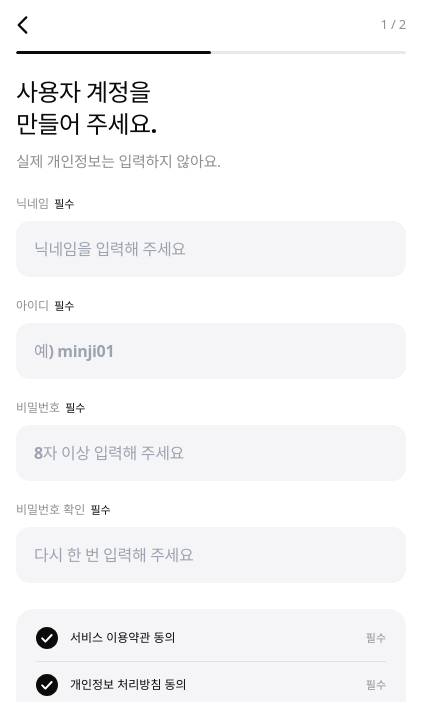
Scenario: BiasFit React flow › keeps the signup form open when passwords do not match
This screenshot has width=423, height=702.
Type "new-user" into the field labelled "아이디 필수". click: (211, 351)
box: [16,323,406,379]
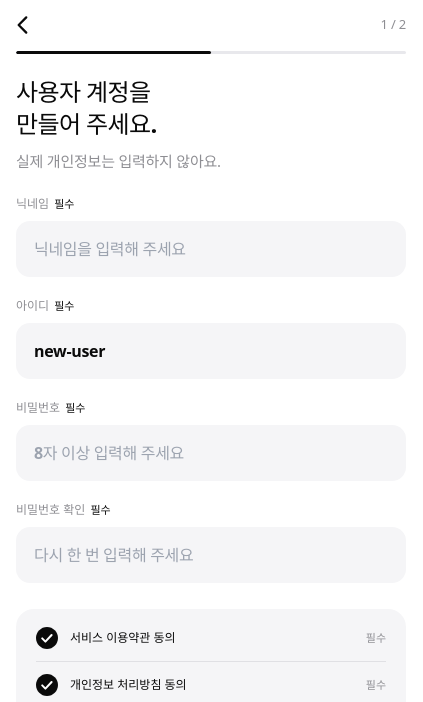
Type "새 사용자" into the field labelled "닉네임 필수". click: (211, 249)
box: [16,221,406,277]
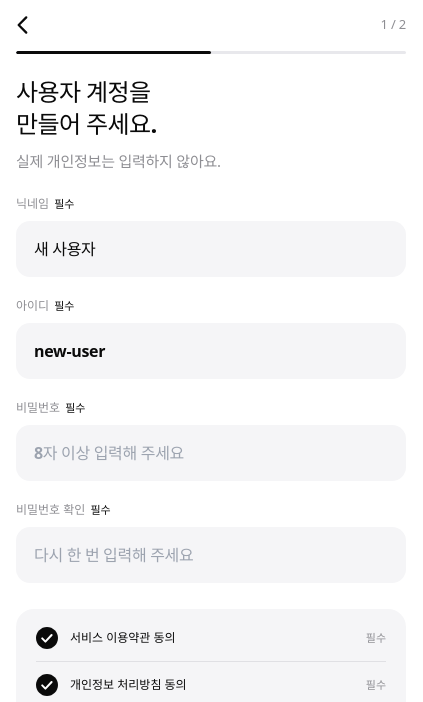
Type "biasfit01" into the password field labelled "비밀번호 필수". click: (211, 453)
box: [16,425,406,481]
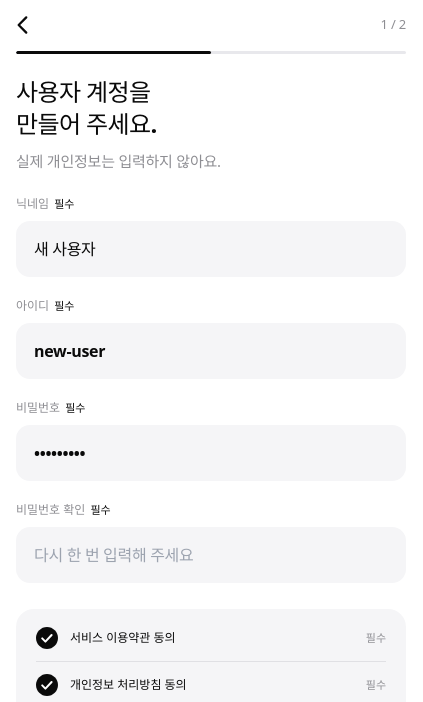
Type "different" into the password field labelled "비밀번호 확인 필수". click: (211, 555)
box: [16,527,406,583]
(page scrolled)
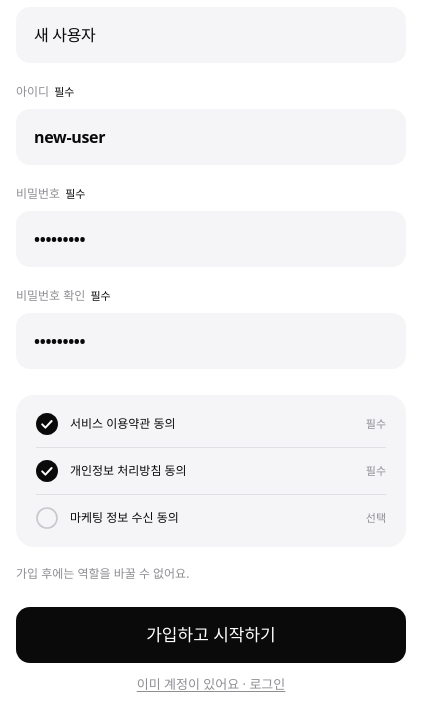
Click the button "가입하고 시작하기". click: click(211, 635)
box: [16,607,406,663]
(page scrolled)
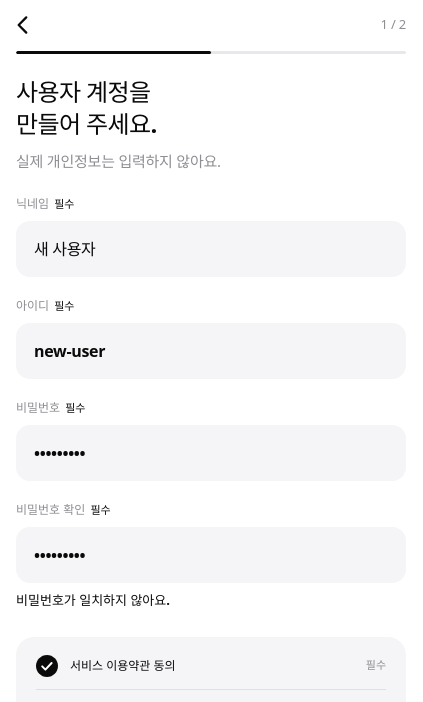
Expected: the heading "사용자 계정을" is shown, [16,75,157,140]
Now the text "비밀번호가 일치하지 않아요." is shown, box [16,591,170,609]
